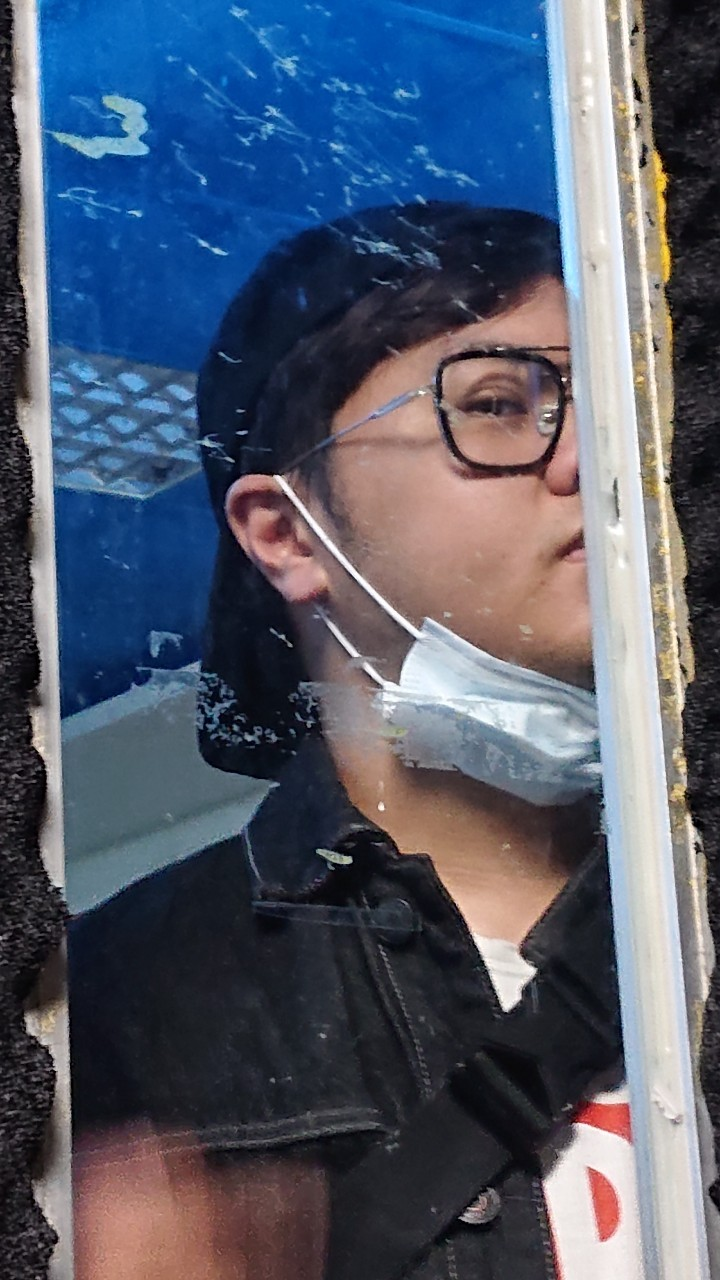people: (71, 219, 654, 1280)
